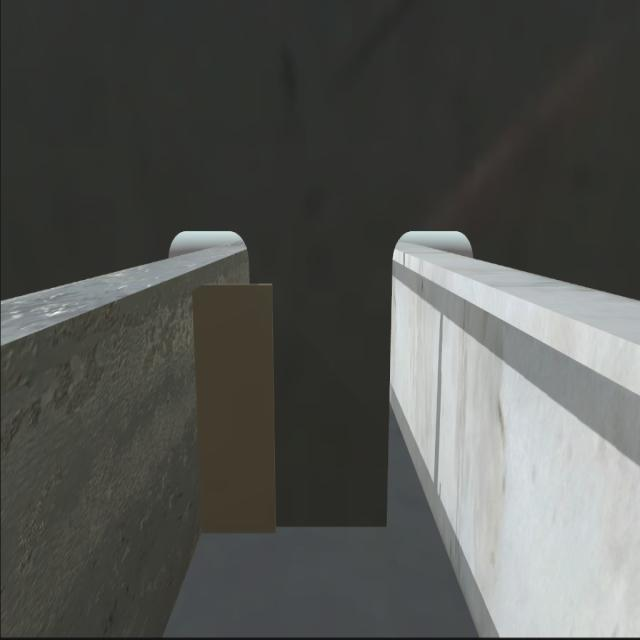fillet_yong_jeop_jang: (197, 516, 390, 538)
longi_yong_jeop_jang: (189, 281, 210, 535)
plate_CP01: (194, 279, 279, 533)
